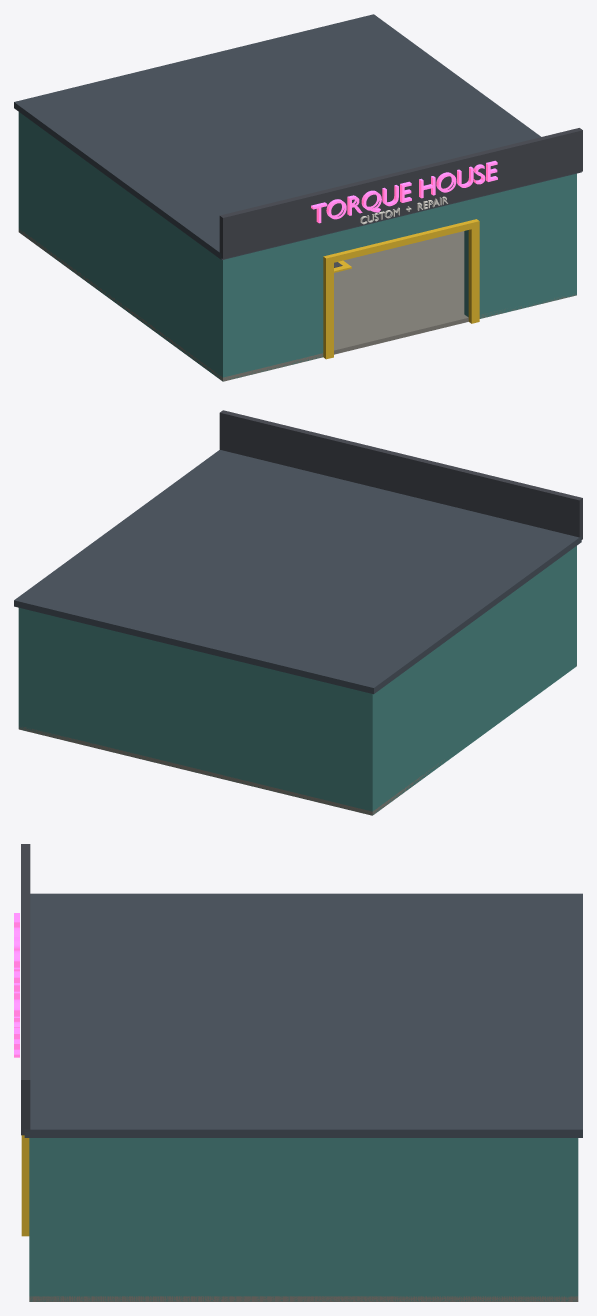
Rendered from garage_mod.glb.
3 views of the same model, one above another, from view 1: azimuth 30°, elevation 25°; view 2: azimuth 150°, elevation 25°; view 3: azimuth 270°, elevation 25° (orthographic). The views are drawn at different scales.
Visible parts, largest first — view 1: garage_mod; view 2: garage_mod; view 3: garage_mod.
Part boxes in pixels (bbox=[...]): garage_mod: bbox=[14, 14, 582, 381]; garage_mod: bbox=[14, 410, 582, 815]; garage_mod: bbox=[14, 844, 582, 1301].
Size of what is drawn, in the model's own units: 18.3 by 8.1 by 18.65.
